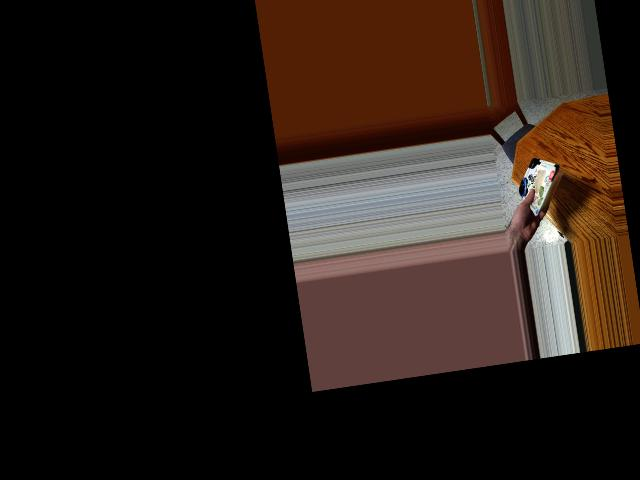cheese: (512, 149, 576, 213)
